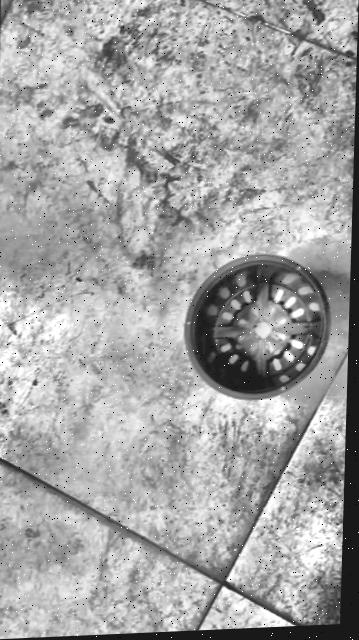pot: (181, 251, 333, 402)
